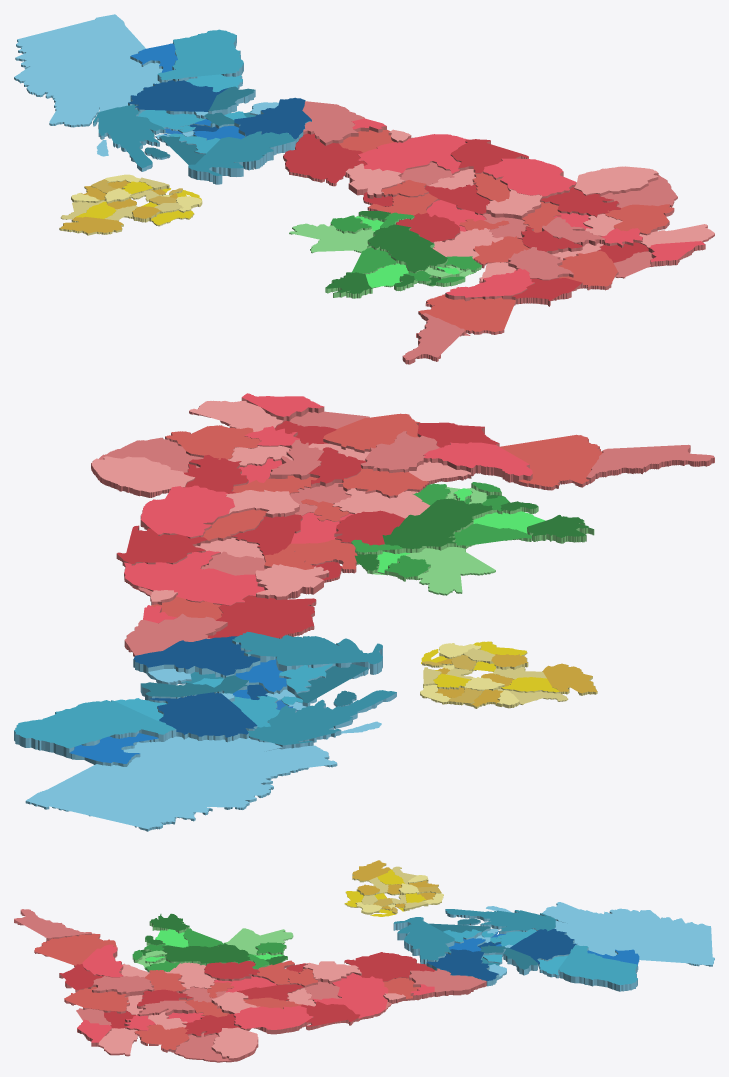
File: ukmapcolor (1).fbx
3 renders of one model, top to bottom at view 1: azimuth 30°, elevation 25°; view 2: azimuth 150°, elevation 25°; view 3: azimuth 270°, elevation 25°, orthographic. The views are drawn at different scales.
Visible parts, largest first — view 1: England.002, Scotland.002, Wales.002, Northern Ireland.002; view 2: England.002, Scotland.002, Wales.002, Northern Ireland.002; view 3: England.002, Scotland.002, Wales.002, Northern Ireland.002.
Part boxes in pixels (x1,y1,x2,y2): England.002: (283,101,714,364); Scotland.002: (14,14,311,184); Wales.002: (289,211,481,298); Northern Ireland.002: (59,174,202,235); England.002: (91,393,714,656); Scotland.002: (14,631,396,831); Wales.002: (351,482,594,595); Northern Ireland.002: (420,641,597,708); England.002: (14,909,486,1062); Scotland.002: (393,902,714,991); Wales.002: (132,913,293,972); Northern Ireland.002: (344,860,443,916).
Size of the model in its own units: 244 by 4.01 by 363.
